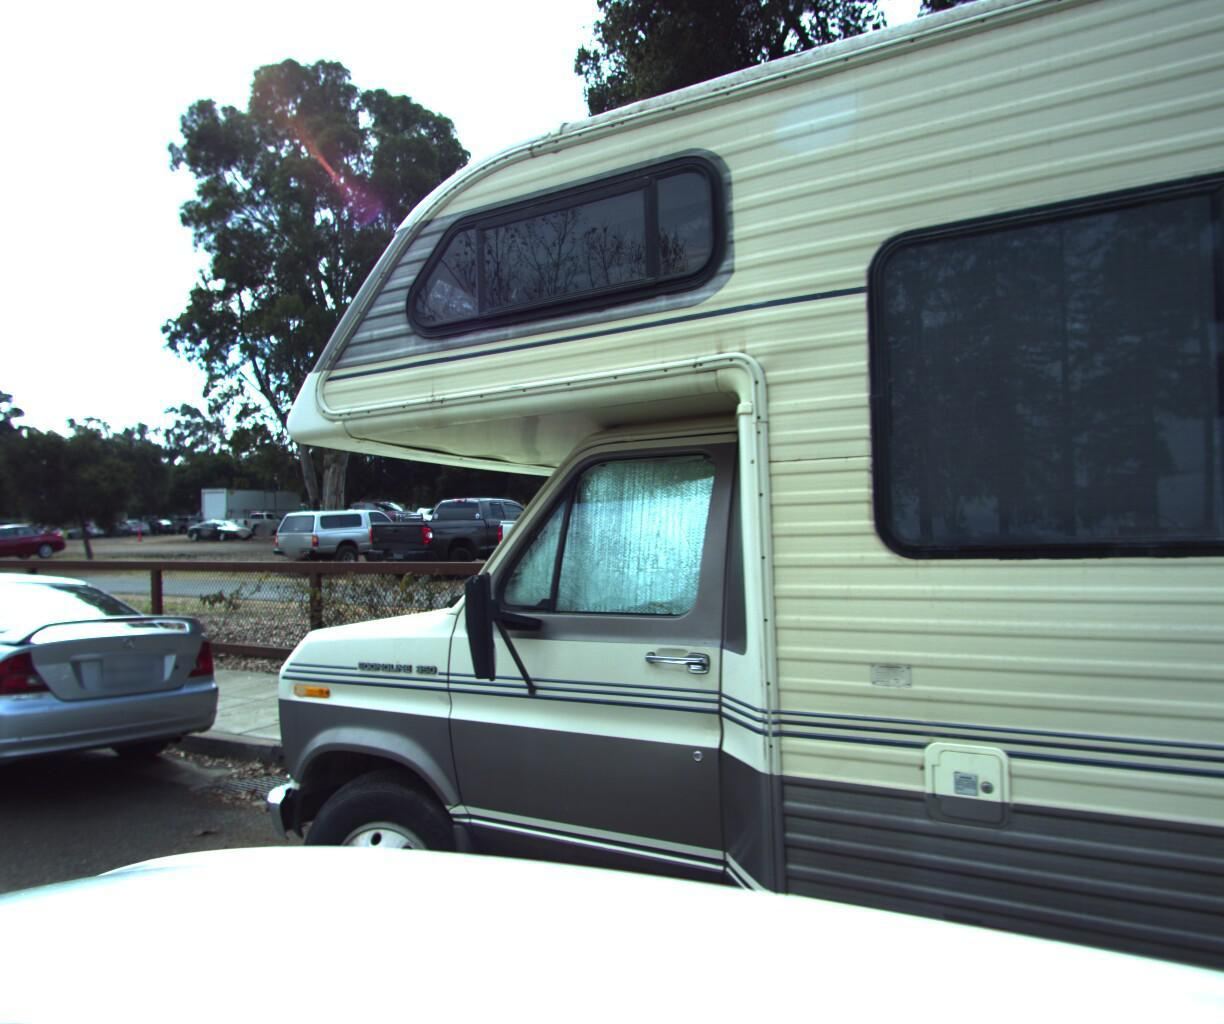car: (0, 555, 253, 861)
